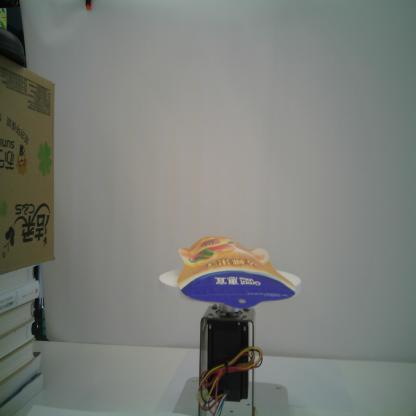Dried Fruit: (176, 233, 300, 309)
